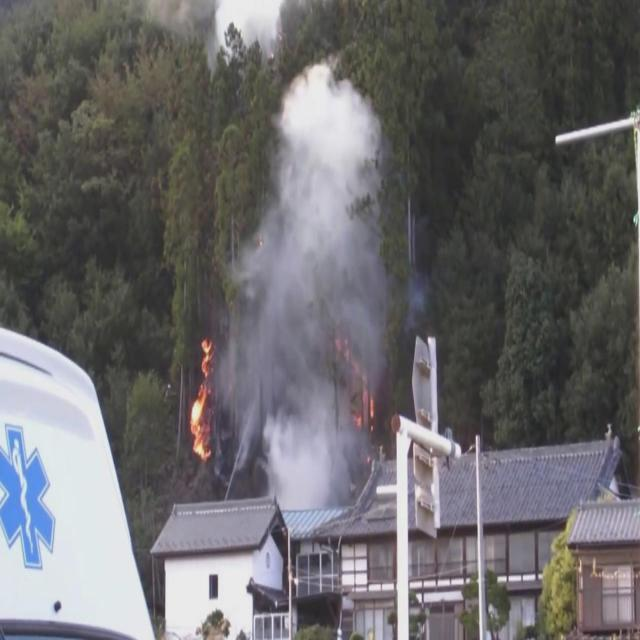Fire: (187, 338, 219, 458)
Smoke: (230, 48, 424, 540)
